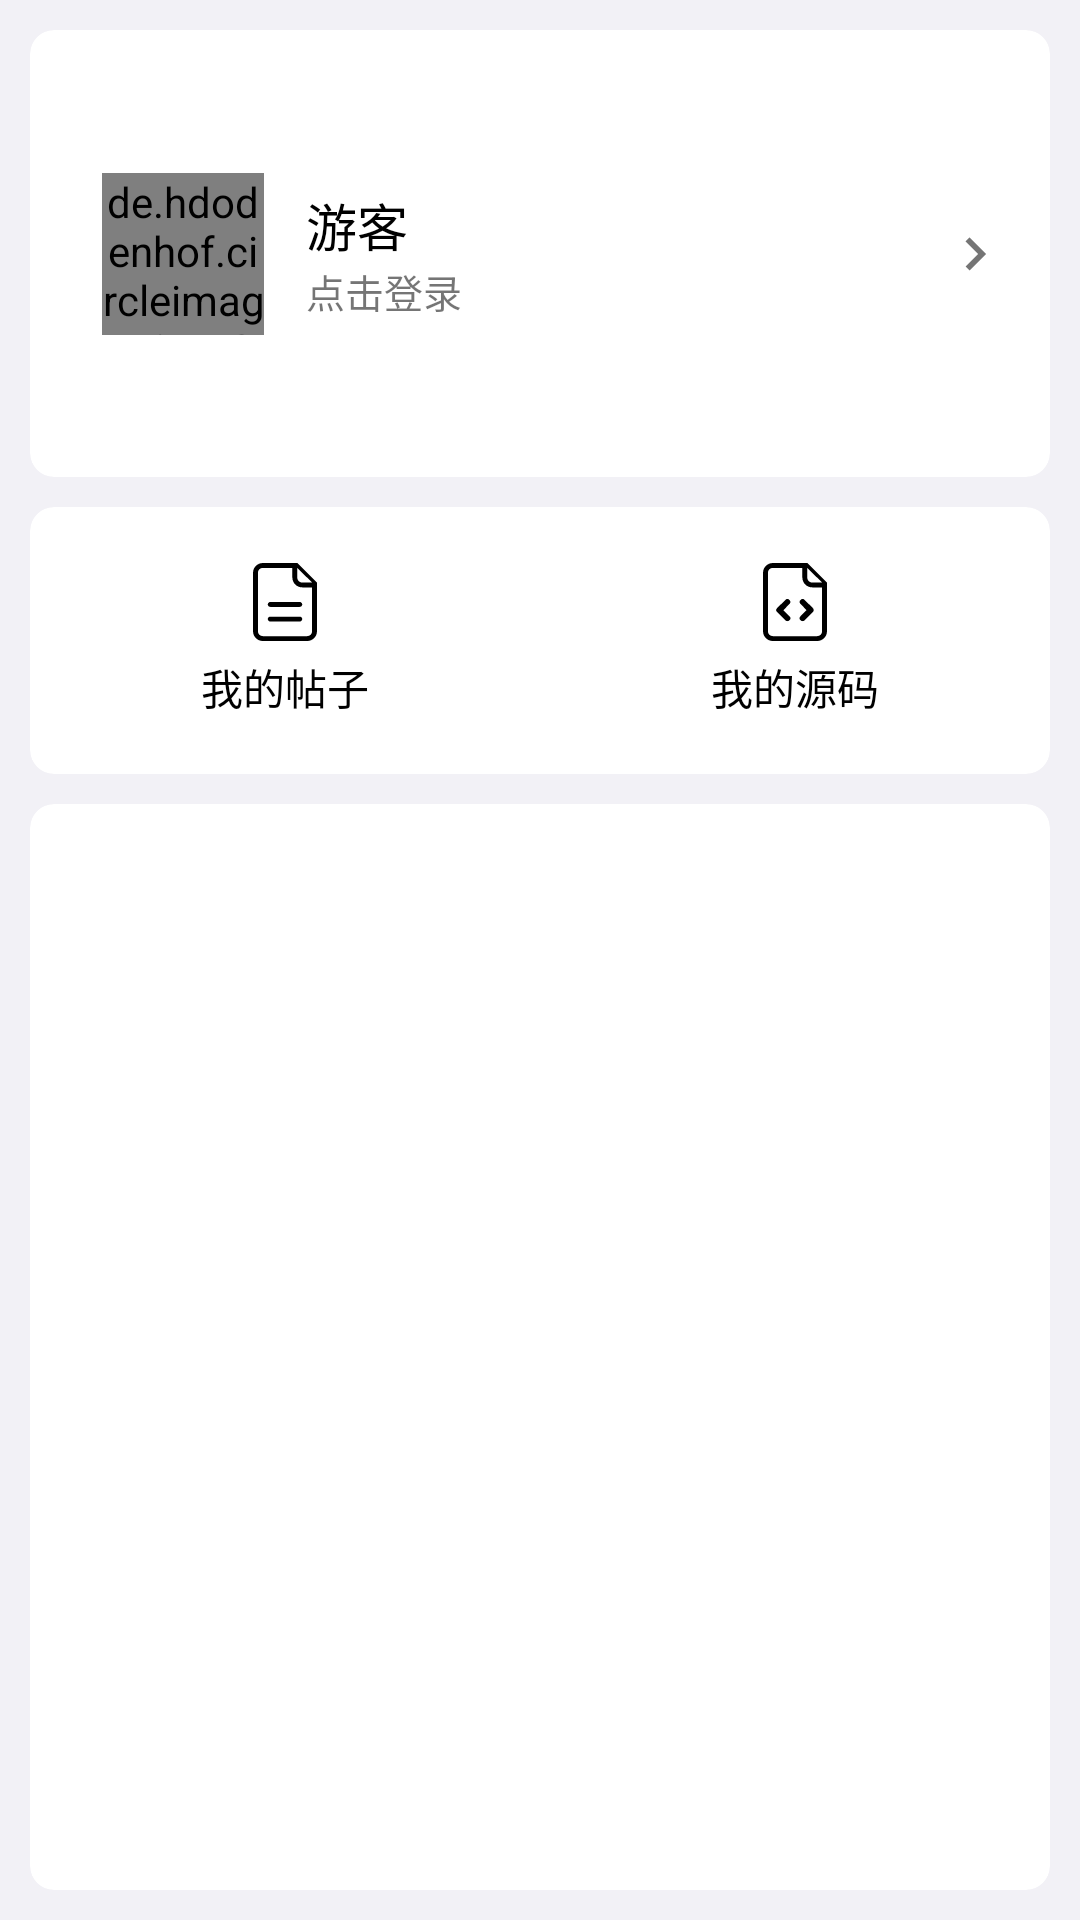

Screen size 1080x1920. Icon name, then its center in pixels as point (x, y):
keyboard arrow right: point (975, 254)
